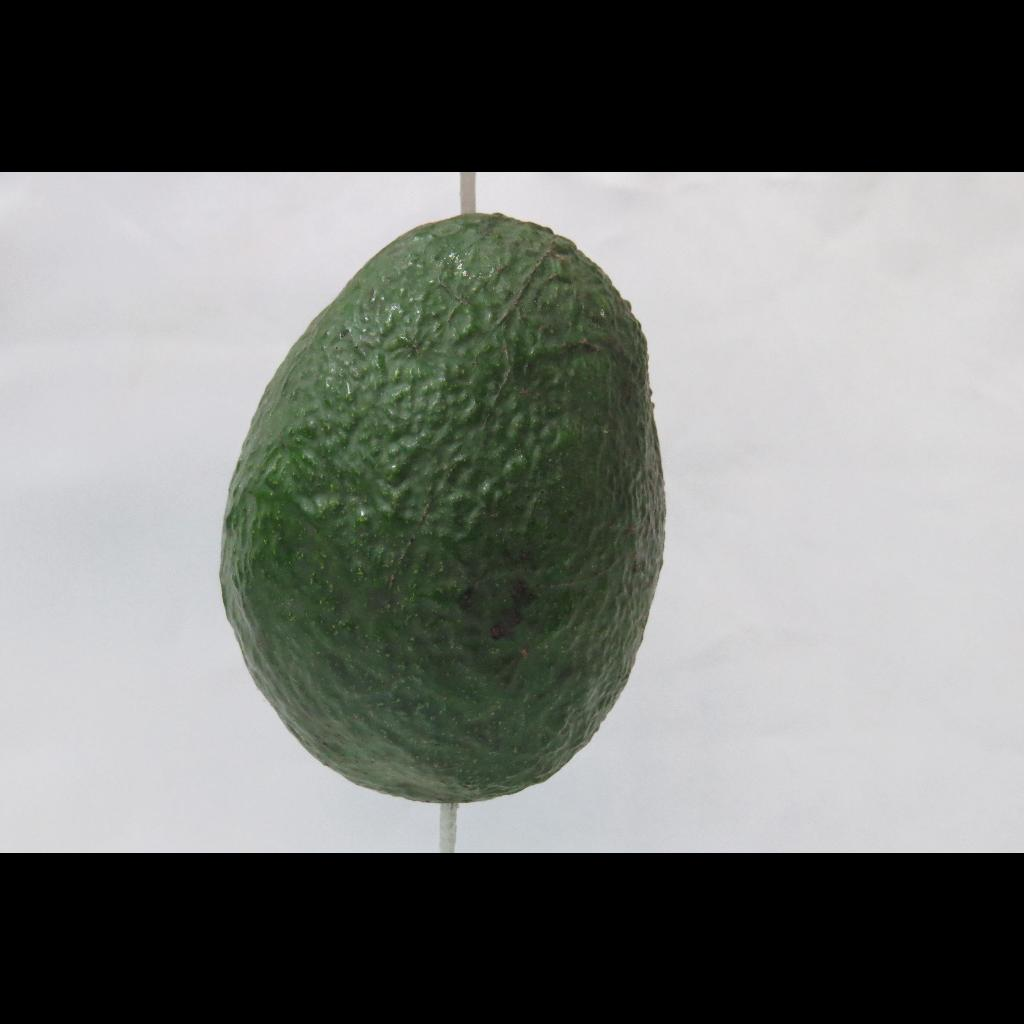Healthy: (203, 188, 737, 826)
